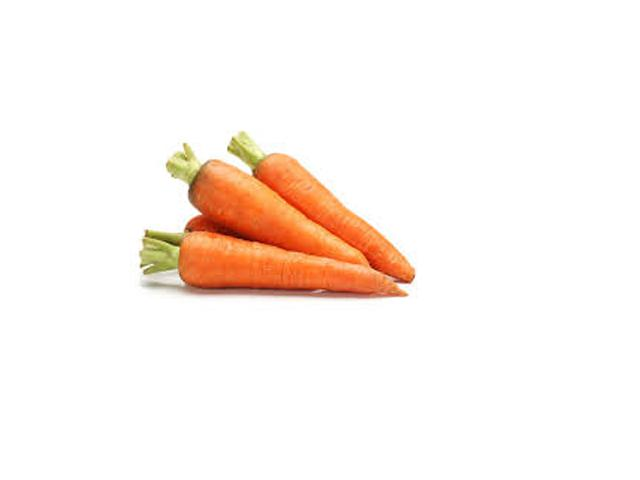carrot: (155, 231, 413, 317)
